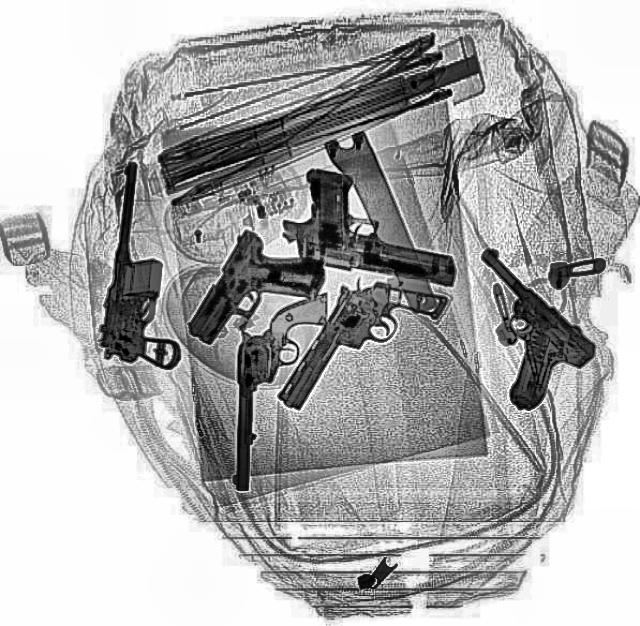Gun: (263, 252, 449, 442), (412, 241, 602, 415), (273, 163, 473, 287), (92, 159, 206, 371), (179, 226, 331, 374), (232, 292, 326, 490)
